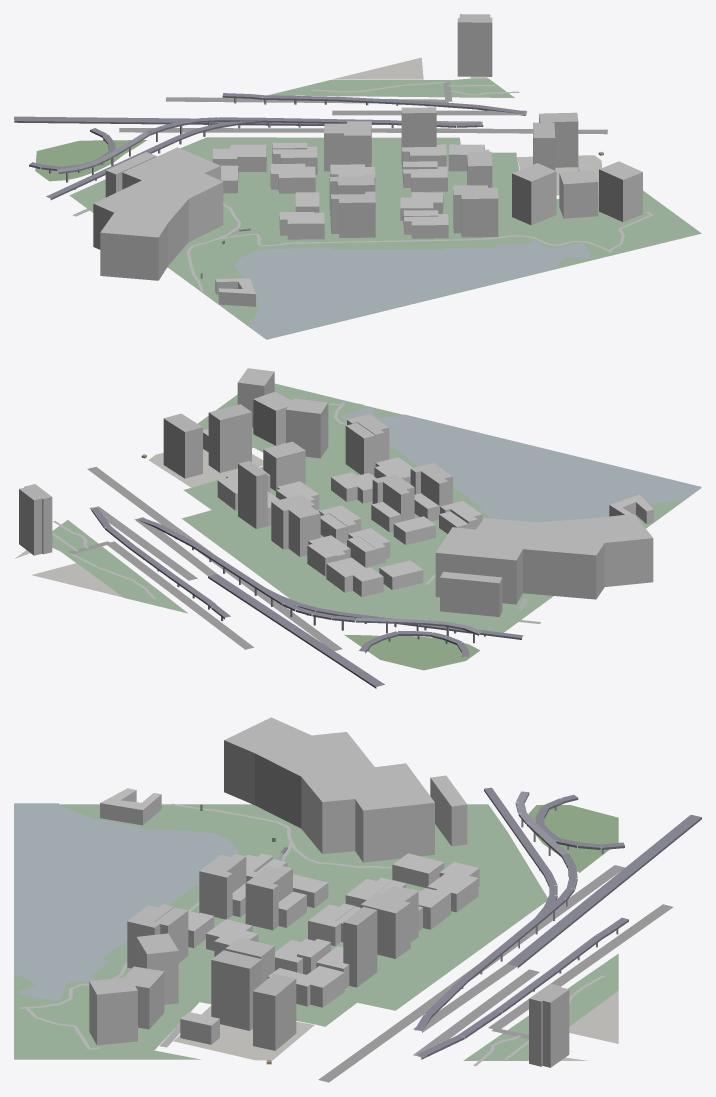
The picture shows the model from 3 angles, top to bottom: view 1: azimuth 30°, elevation 25°; view 2: azimuth 150°, elevation 25°; view 3: azimuth 270°, elevation 25°; orthographic projection. The views are drawn at different scales.
Size of the model in its own units: 611 by 60.99 by 569.
